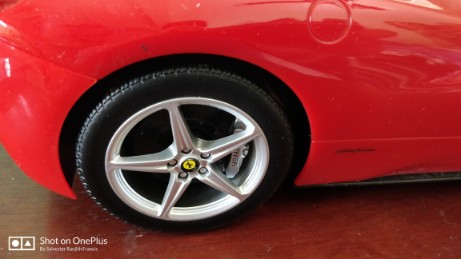aligned_wheel: (73, 63, 295, 237)
